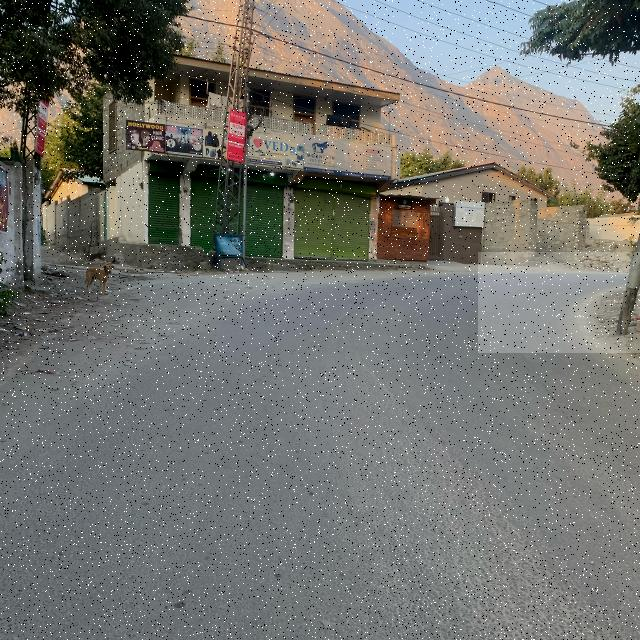right: (478, 252, 640, 353)
